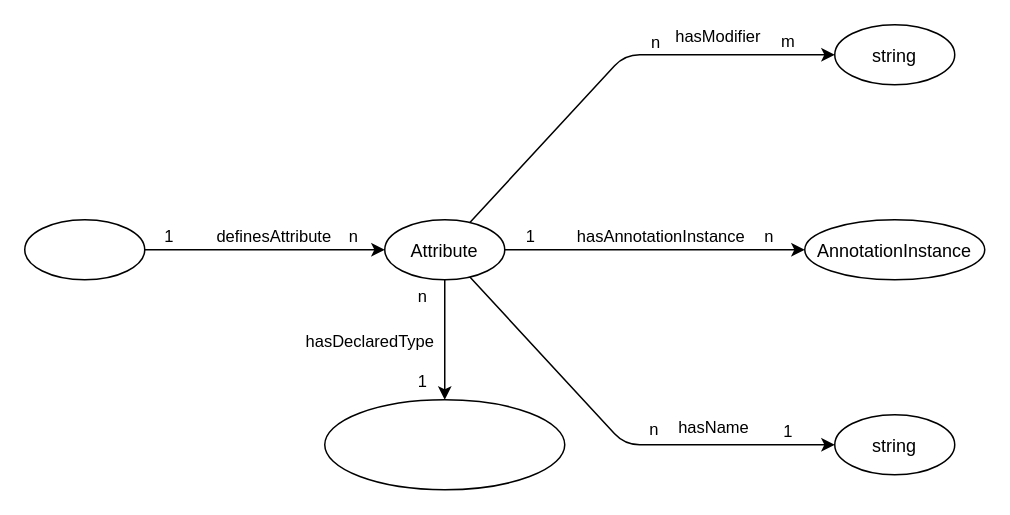
The diagram is 1010 pixels wide and 515 high, and some of its shapes have lost their labels. Here are the shapes that lost their labels. From the top down, the centre of each, then its label:
At pixel 84 249: "FamixClass or Enum".
At pixel 444 444: "FamixClass or Enum or AnnotationType or primitive type".
